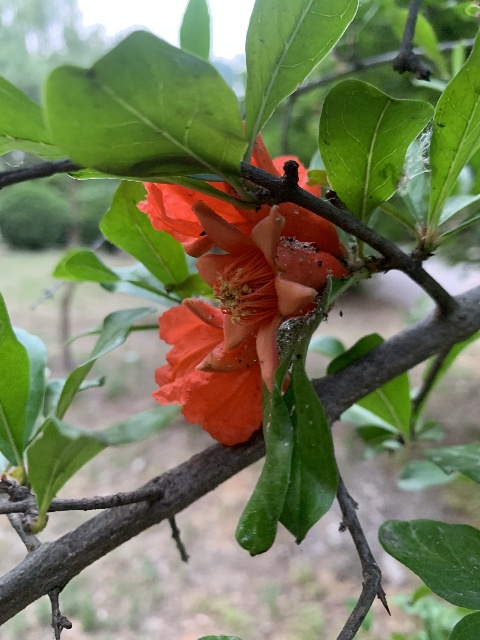flower: (189, 205, 347, 389), (138, 124, 346, 260), (151, 297, 291, 445)
